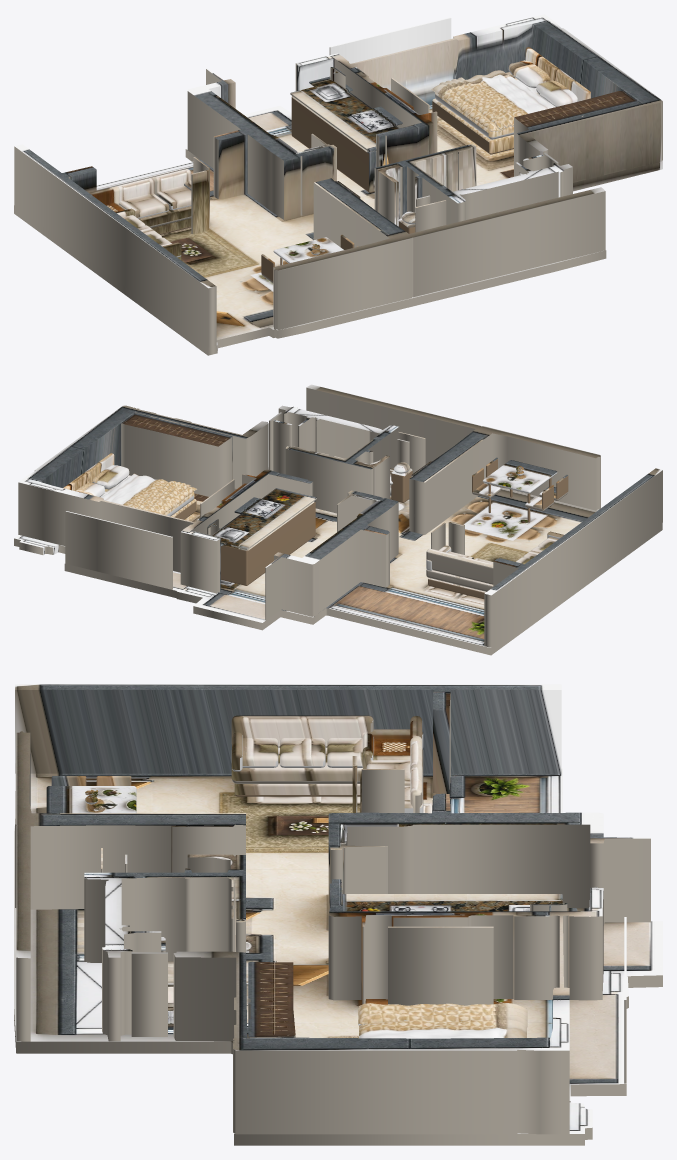
Rendered from p4-02-u02-2112-image-model.glb.
3 views of the same model, one above another, from view 1: azimuth 30°, elevation 25°; view 2: azimuth 150°, elevation 25°; view 3: azimuth 270°, elevation 25° (orthographic). The views are drawn at different scales.
Visible parts, largest first — view 1: Partition walls, Apartment floor, Kitchen cabinets, Draped bed linen, Stone worktop, Sofa back, Draped bed linen.001, Walnut upholstered base, Upholstered headboard, Marble dining top, Seat cushion.001, Piped mattress (+5 smaller); view 2: Partition walls, Apartment floor, Kitchen cabinets, Stone worktop, Draped bed linen, Marble dining top, Sofa back, Draped bed linen.001, Upholstered sofa frame, Upholstered headboard, Inset cooktop, Tailored pillow (+2 smaller); view 3: Partition walls, Apartment floor, Stone worktop, Sofa back.001, Draped bed linen, Draped bed linen.001, Marble dining top, Upholstered sofa frame.001, Sofa plinth.001, Seat cushion.004, Sofa back, Seat cushion.003 (+2 smaller).
Part boxes in pixels (x1=…): Partition walls: x1=14, y1=14, x2=662, y2=347; Apartment floor: x1=14, y1=104, x2=662, y2=355; Kitchen cabinets: x1=291, y1=96, x2=376, y2=192; Draped bed linen: x1=431, y1=70, x2=554, y2=131; Stone worktop: x1=290, y1=87, x2=398, y2=152; Sofa back: x1=89, y1=169, x2=191, y2=204; Draped bed linen.001: x1=439, y1=77, x2=514, y2=129; Walnut upholstered base: x1=432, y1=98, x2=513, y2=154; Upholstered headboard: x1=525, y1=47, x2=590, y2=101; Marble dining top: x1=273, y1=237, x2=343, y2=263; Seat cushion.001: x1=119, y1=193, x2=169, y2=218; Piped mattress: x1=435, y1=72, x2=555, y2=139; Partition walls: x1=18, y1=384, x2=662, y2=647; Apartment floor: x1=14, y1=467, x2=662, y2=655; Kitchen cabinets: x1=220, y1=500, x2=315, y2=585; Stone worktop: x1=221, y1=488, x2=316, y2=549; Draped bed linen: x1=101, y1=473, x2=197, y2=514; Marble dining top: x1=483, y1=460, x2=557, y2=493; Sofa back: x1=426, y1=548, x2=493, y2=584; Draped bed linen.001: x1=132, y1=481, x2=190, y2=511; Upholstered sofa frame: x1=426, y1=569, x2=493, y2=591; Upholstered headboard: x1=63, y1=453, x2=114, y2=491; Inset cooktop: x1=234, y1=497, x2=281, y2=518; Tailored pillow: x1=92, y1=465, x2=129, y2=489; Partition walls: x1=15, y1=684, x2=650, y2=1134; Apartment floor: x1=14, y1=768, x2=662, y2=1145; Stone worktop: x1=342, y1=894, x2=562, y2=911; Sofa back.001: x1=231, y1=715, x2=373, y2=747; Draped bed linen: x1=359, y1=1003, x2=526, y2=1038; Draped bed linen.001: x1=358, y1=1003, x2=527, y2=1027; Marble dining top: x1=46, y1=786, x2=136, y2=813; Upholstered sofa frame.001: x1=231, y1=747, x2=362, y2=783; Sofa plinth.001: x1=234, y1=783, x2=360, y2=796; Seat cushion.004: x1=280, y1=738, x2=325, y2=767; Sofa back: x1=410, y1=716, x2=422, y2=812; Seat cushion.003: x1=242, y1=738, x2=278, y2=767.
Size of the model in its own units: 10.72 by 1.3 by 8.02.
14 materials, 3 textured.
